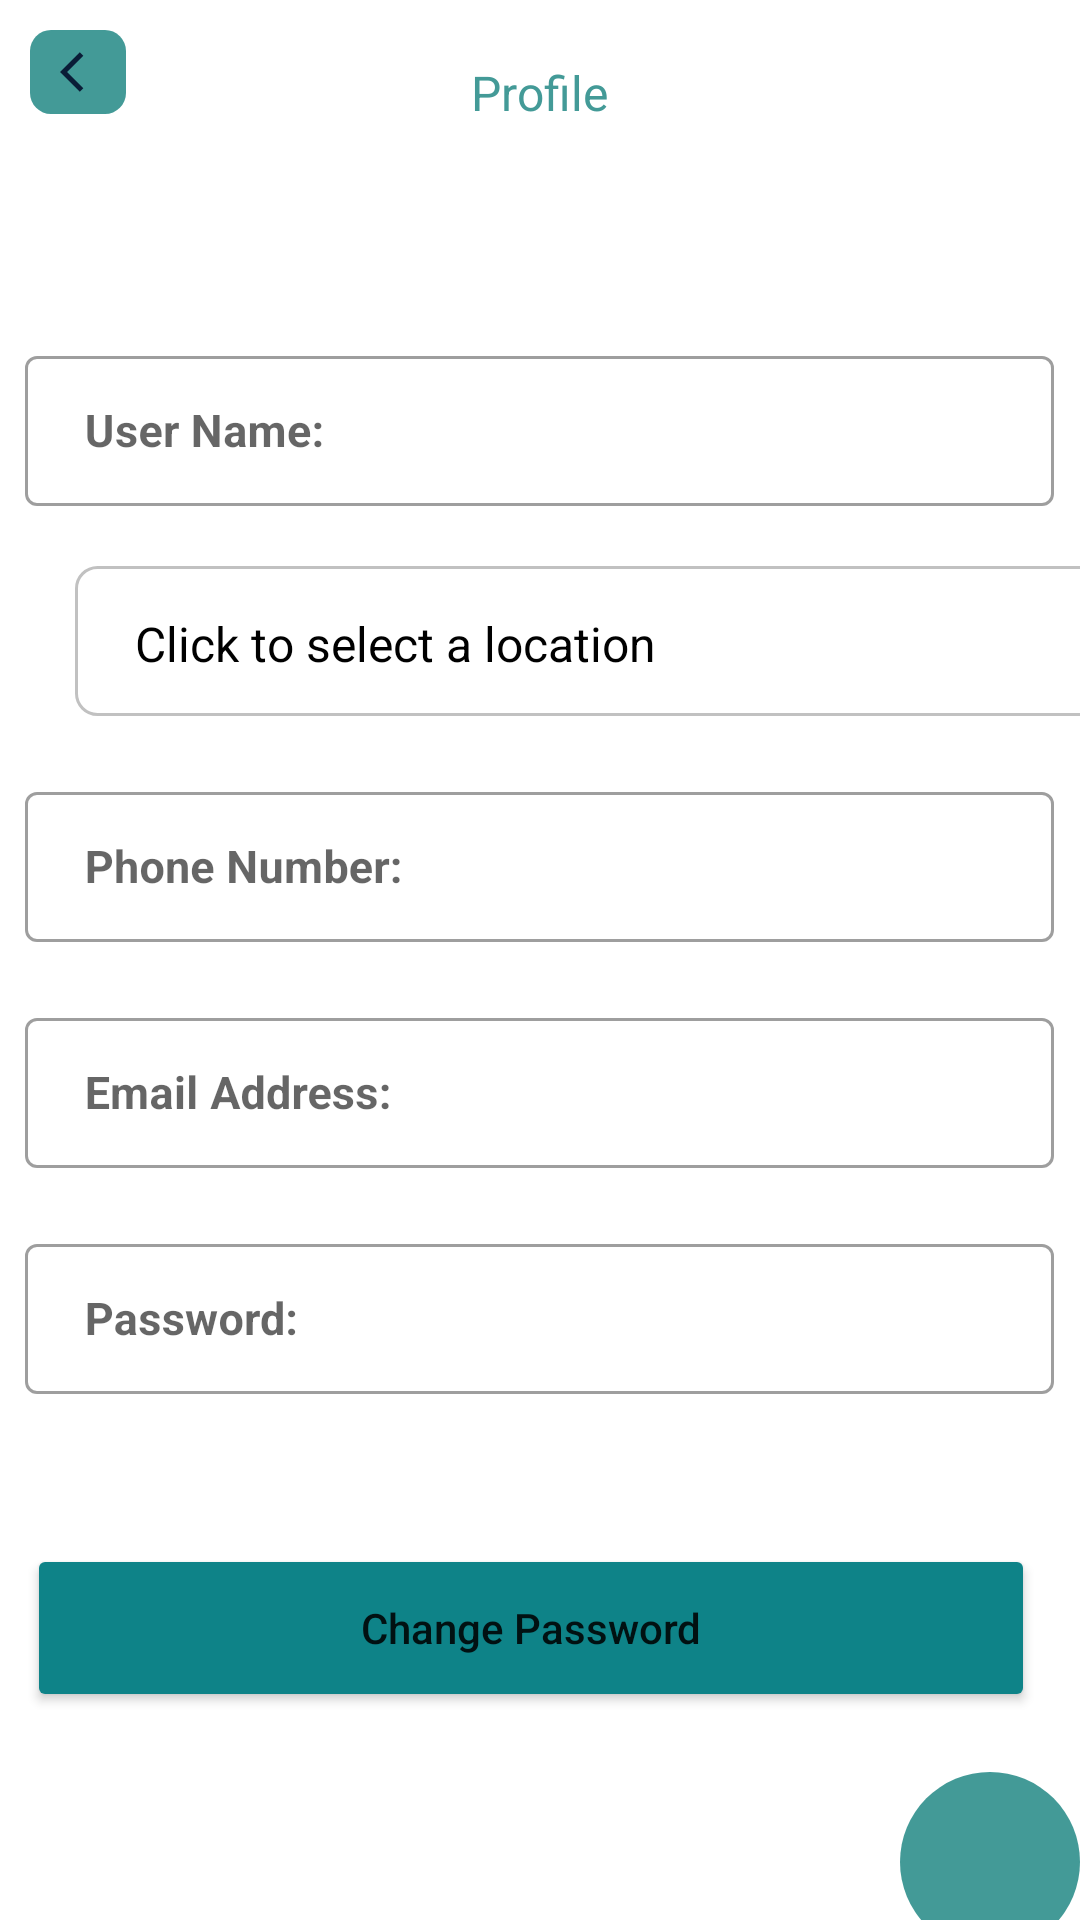

Icons on this 1080 x 1920 Android screen, each with the point to tap as [x,y]:
arrow back: [71,72]
